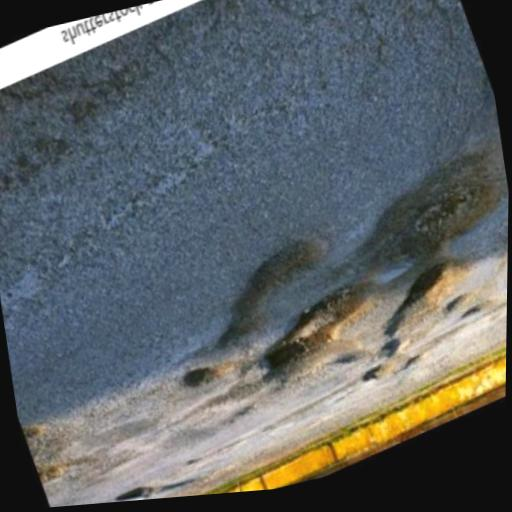pothole: (357, 153, 499, 274), (211, 233, 328, 358), (257, 280, 371, 392), (362, 259, 467, 380)
